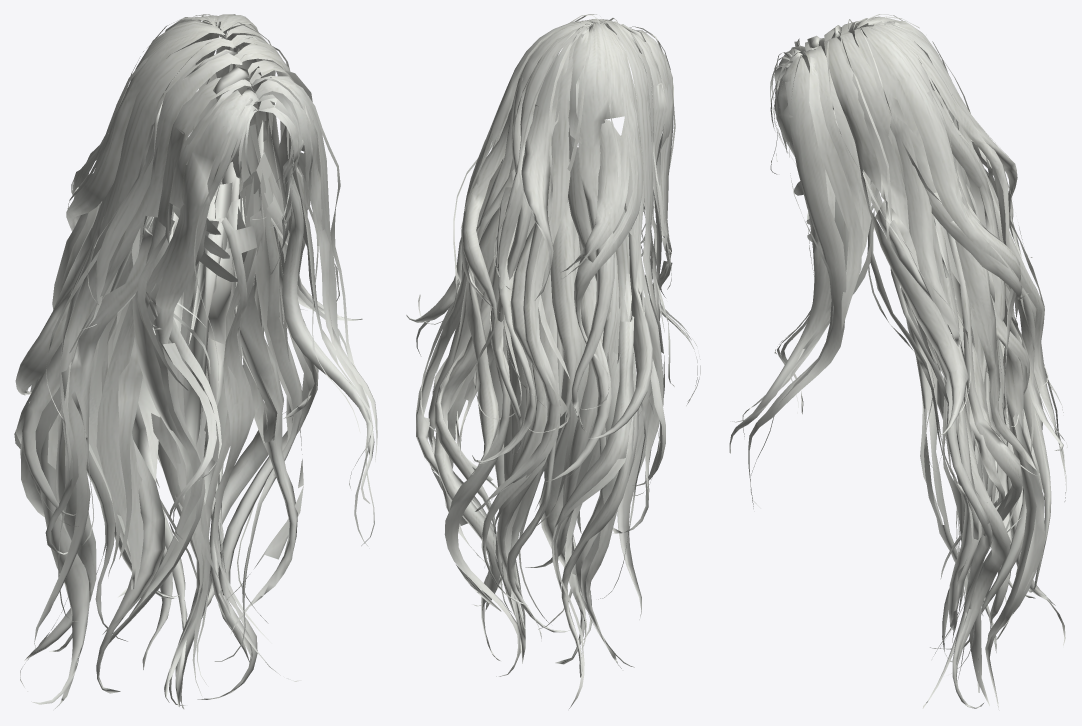
Rendered from hair-2.glb.
The picture shows the model from 3 angles, left to right: view 1: azimuth 30°, elevation 25°; view 2: azimuth 150°, elevation 25°; view 3: azimuth 270°, elevation 25°; orthographic projection. The views are drawn at different scales.
Bounding box in the file's own units: 0.4355 × 0.9507 × 0.4341.
Materials: 1 (1 with a texture image).
